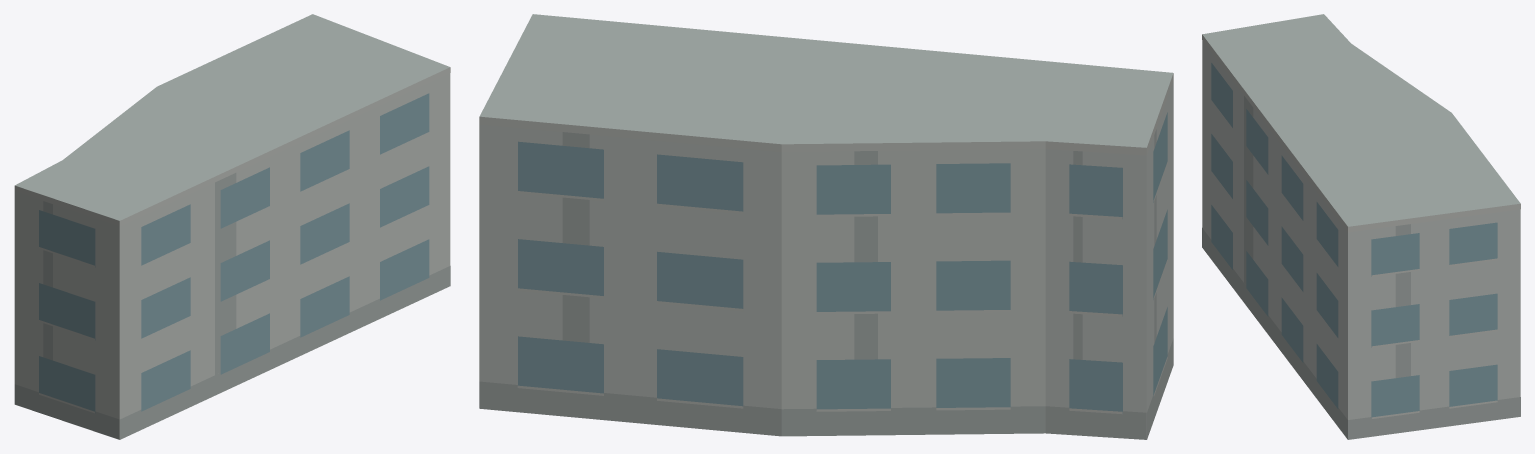
File: residential-82734607-06bc-47d1-b292-ca93201deb73.glb
The picture shows the model from 3 angles, left to right: view 1: azimuth 30°, elevation 25°; view 2: azimuth 150°, elevation 25°; view 3: azimuth 270°, elevation 25°; orthographic projection. The views are drawn at different scales.
Visible parts, largest first — view 1: residential-82734607-06bc-47d1-b292-ca93201deb73.tmp; view 2: residential-82734607-06bc-47d1-b292-ca93201deb73.tmp; view 3: residential-82734607-06bc-47d1-b292-ca93201deb73.tmp.
Boxes of the visible parts, x1=… form: residential-82734607-06bc-47d1-b292-ca93201deb73.tmp: x1=14, y1=14, x2=450, y2=439; residential-82734607-06bc-47d1-b292-ca93201deb73.tmp: x1=479, y1=14, x2=1173, y2=439; residential-82734607-06bc-47d1-b292-ca93201deb73.tmp: x1=1202, y1=14, x2=1520, y2=439.
Size of the model in its own units: 19.61 by 9.15 by 12.41.
